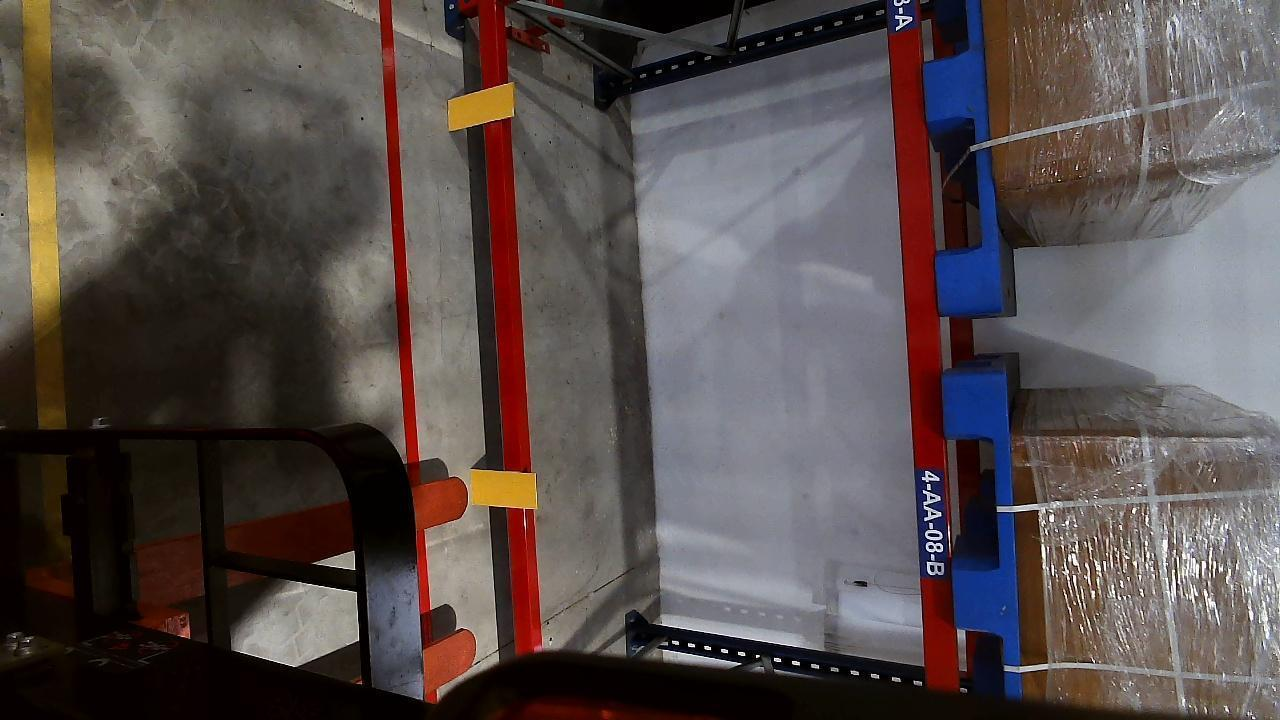red_line: (379, 0, 421, 546)
yellow_line: (18, 0, 66, 425)
